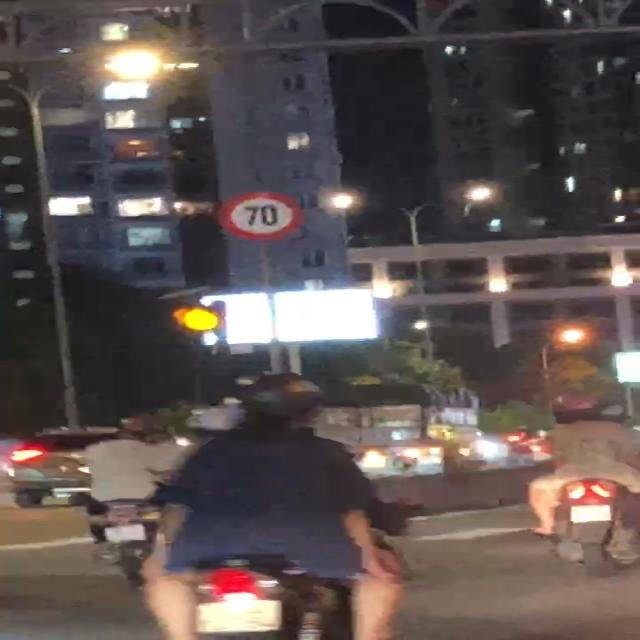Bien bao toc do toi da cho phep: (217, 186, 307, 242)
